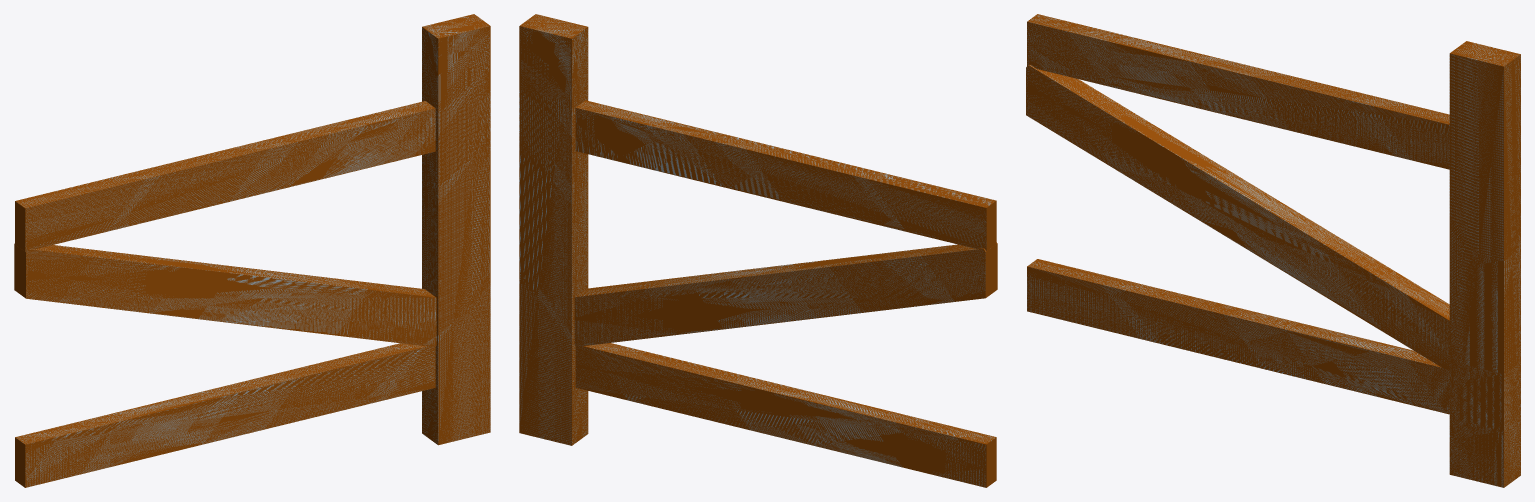
File: Fence_Small_Timber_04.fbx
3 views of the same model, side by side, from view 1: azimuth 30°, elevation 25°; view 2: azimuth 150°, elevation 25°; view 3: azimuth 330°, elevation 25° (orthographic). The views are drawn at different scales.
Parts seen in each view (by area): view 1: Model; view 2: Model; view 3: Model.
Part boxes in pixels (box(x1,y1,x2,y2)): Model: box(14, 14, 490, 487); Model: box(519, 14, 997, 487); Model: box(1026, 14, 1520, 487).
Size of the model in its own units: 216 by 181 by 13.18.
